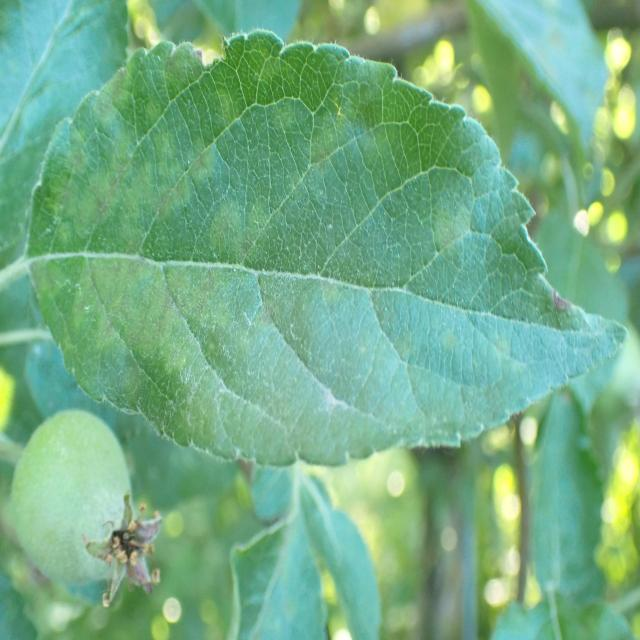scab: (40, 45, 568, 452)
